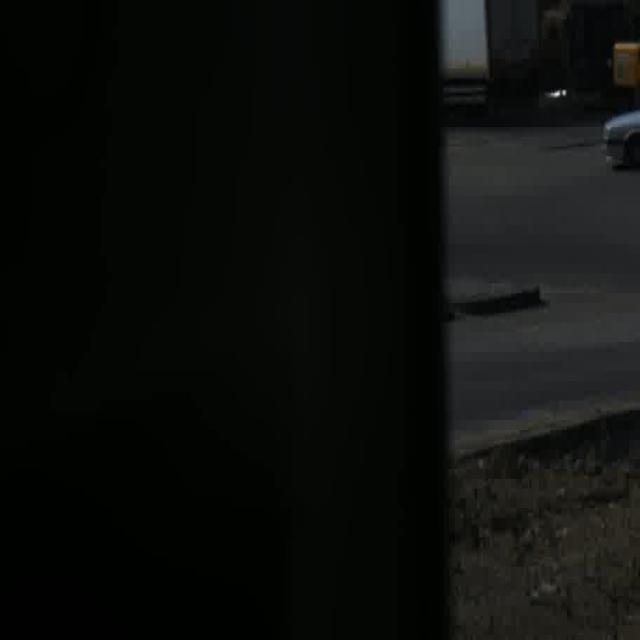Car: (441, 0, 536, 123), (596, 111, 640, 174)
